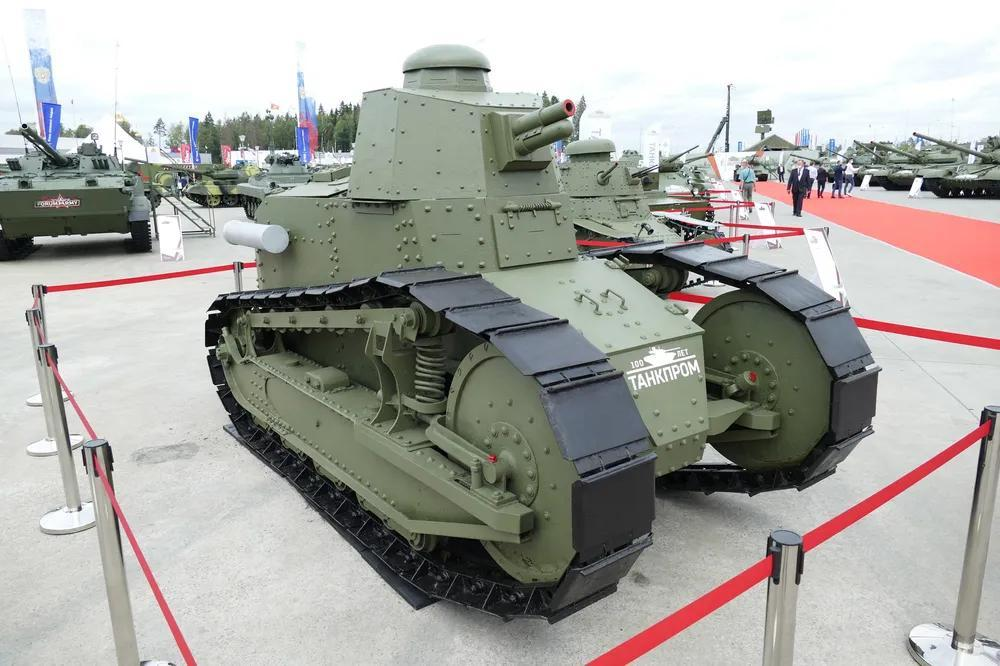MIL_IFV: (204, 40, 882, 629)
